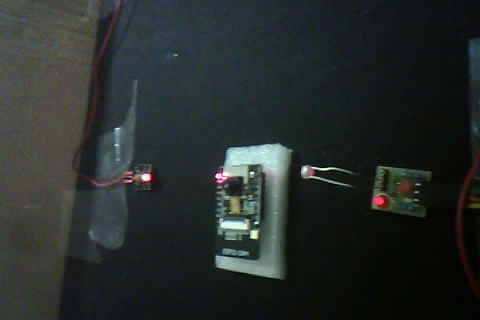esp32: (207, 140, 293, 276)
